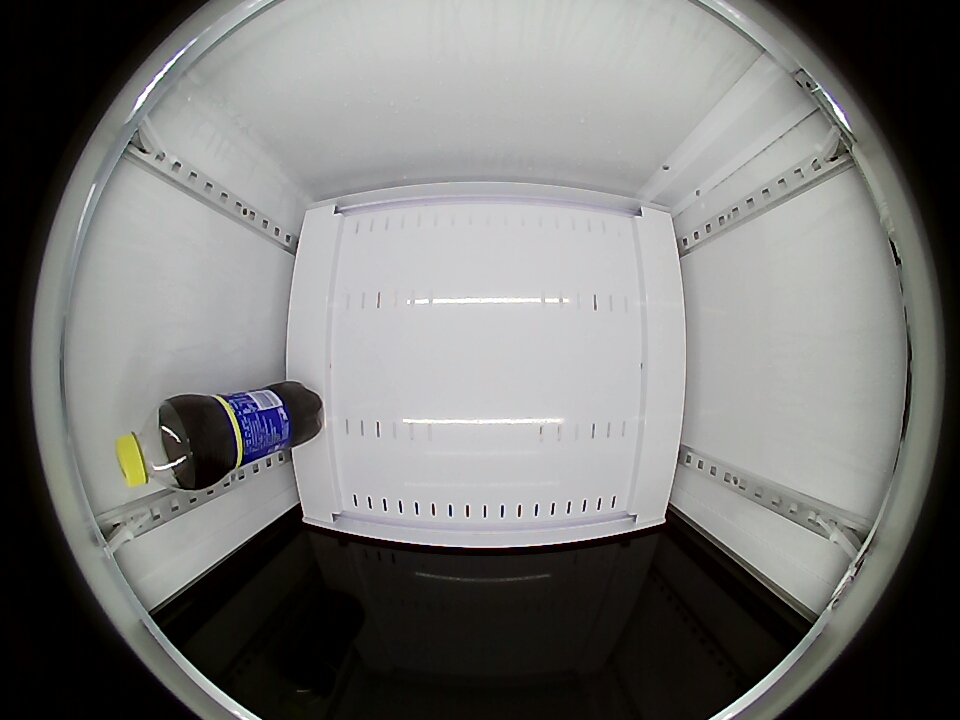baishikele: (115, 401, 201, 491)
